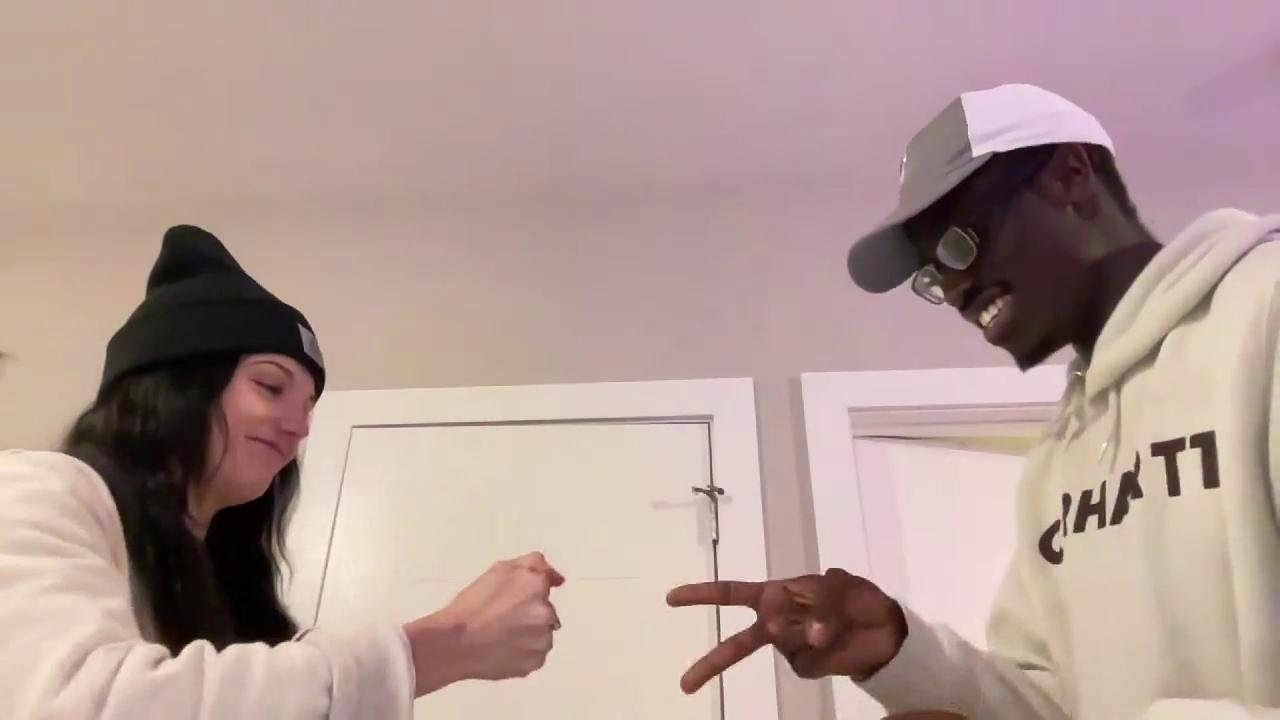Rock: (422, 547, 570, 692)
Scissors: (663, 567, 897, 695)
